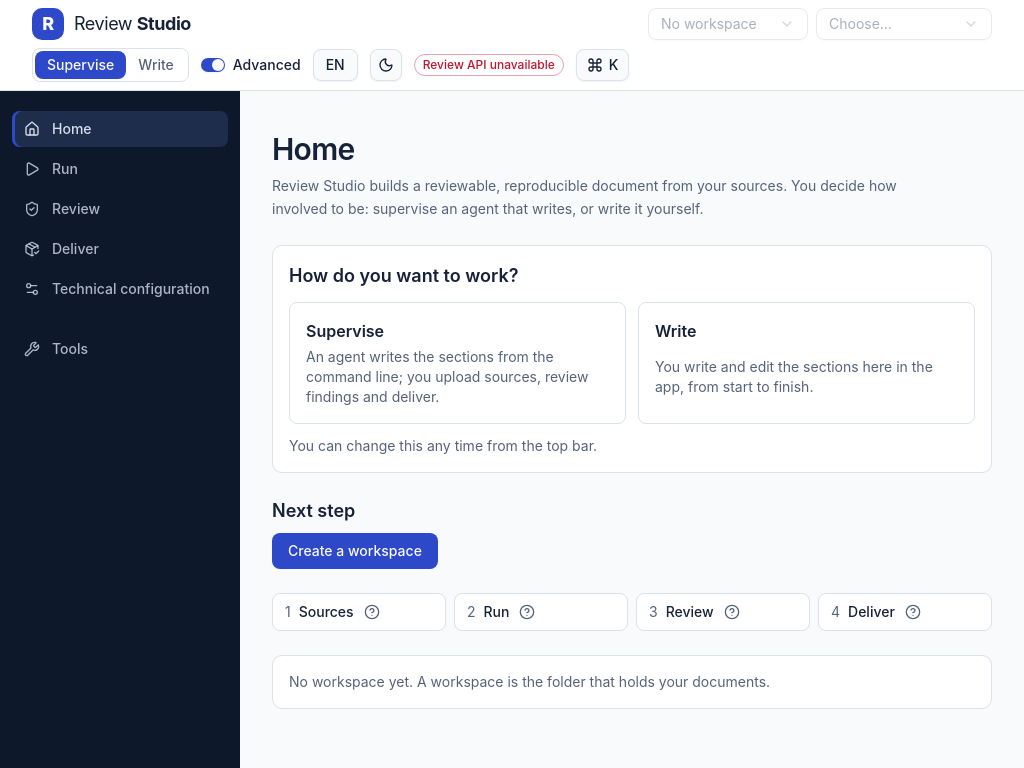
Test: application shell › lists navigation plus only enabled capabilities as palette actions
Click the button named "Open command menu". click: {"x": 603, "y": 65}
box: [576,49,629,81]
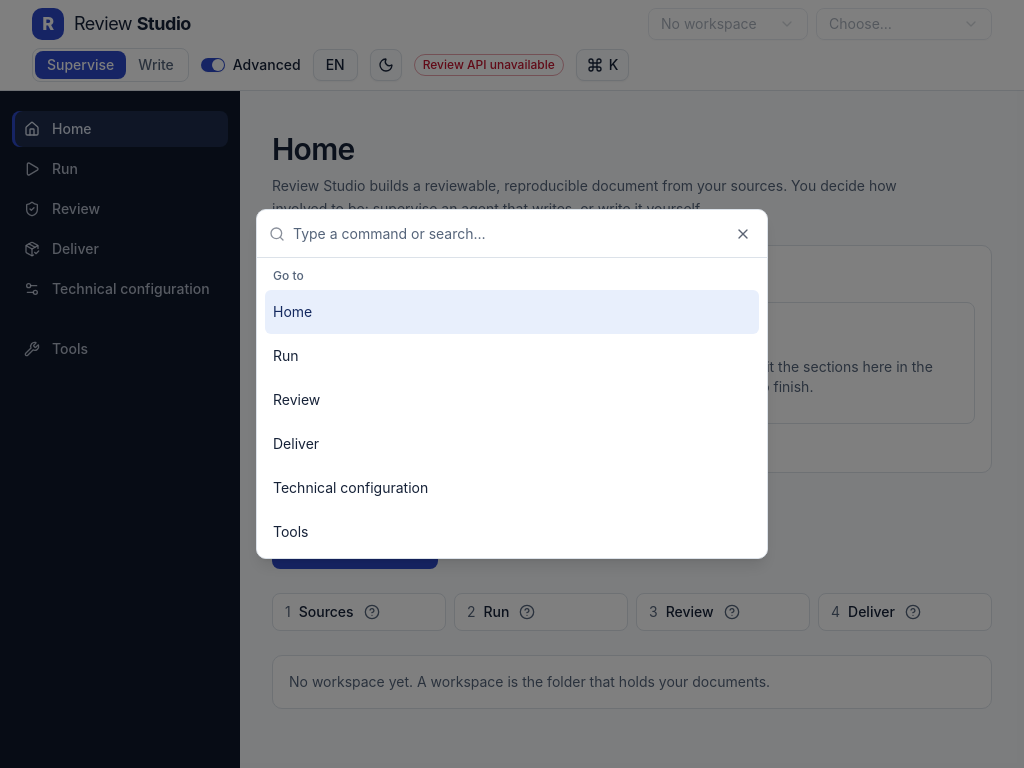
Check: the option "Run" is shown, box [273,347,299,364]
